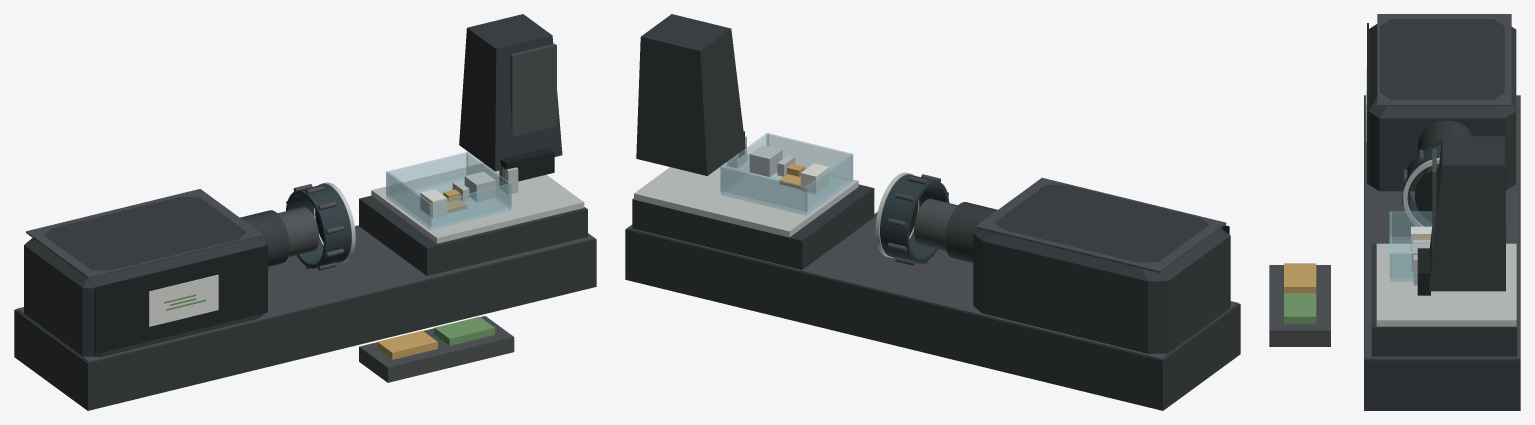
The model's file is microtester-g2.glb.
3 views of the same model, side by side, from view 1: azimuth 30°, elevation 25°; view 2: azimuth 150°, elevation 25°; view 3: azimuth 270°, elevation 25° (orthographic). The views are drawn at different scales.
Parts seen in each view (by area): view 1: Long_nominal_black_bed, Optics_left_housing, Optics_front_visible_panel, Raised_right_protective_column, Bed_top_parting_strip, Fixture_right_base_silver, Fixture_right_island, Virtual_key_pad, Upper_tower_soft_front_edge, Camera_focus_collar_silhouette, Optics_top_panel, Original_pale_exterior_label (+12 smaller); view 2: Long_nominal_black_bed, Optics_left_housing, Raised_right_protective_column, Fixture_right_base_silver, Bed_top_parting_strip, Fixture_right_island, Camera_focus_collar_silhouette, Optics_top_panel, Dry_guard_floor, Dry_empty_guard_edge_-36, Dry_empty_guard_edge_46, Camera_dormant_nose (+5 smaller); view 3: Optics_left_housing, Raised_right_protective_column, Long_nominal_black_bed, Fixture_right_base_silver, Bed_top_parting_strip, Fixture_right_island, Virtual_key_pad, Optics_top_panel, Run_virtual_trace_key, Preview_toggle_key, Camera_dormant_nose, Dry_guard_floor (+9 smaller).
Boxes of the visible parts, x1,y1,x2,y2 form: Long_nominal_black_bed: (14, 233, 596, 410); Optics_left_housing: (24, 197, 267, 356); Optics_front_visible_panel: (94, 245, 267, 354); Raised_right_protective_column: (459, 14, 562, 171); Bed_top_parting_strip: (16, 225, 594, 362); Fixture_right_base_silver: (371, 163, 584, 243); Fixture_right_island: (359, 196, 587, 275); Virtual_key_pad: (359, 316, 514, 382); Upper_tower_soft_front_edge: (510, 43, 556, 136); Camera_focus_collar_silhouette: (286, 184, 351, 268); Optics_top_panel: (26, 189, 263, 278); Original_pale_exterior_label: (149, 274, 218, 326); Long_nominal_black_bed: (625, 224, 1240, 410); Optics_left_housing: (973, 184, 1230, 353); Raised_right_protective_column: (636, 14, 745, 175); Fixture_right_base_silver: (634, 153, 858, 237); Bed_top_parting_strip: (627, 214, 1238, 359); Fixture_right_island: (632, 184, 874, 269); Camera_focus_collar_silhouette: (880, 174, 949, 263); Optics_top_panel: (975, 177, 1226, 272); Dry_guard_floor: (721, 168, 852, 215); Dry_empty_guard_edge_-36: (720, 166, 807, 212); Dry_empty_guard_edge_46: (766, 133, 852, 179); Camera_dormant_nose: (945, 202, 997, 262); Optics_left_housing: (1368, 19, 1516, 191); Raised_right_protective_column: (1429, 136, 1505, 291); Long_nominal_black_bed: (1364, 95, 1520, 410); Fixture_right_base_silver: (1376, 243, 1516, 326); Bed_top_parting_strip: (1365, 95, 1519, 359); Fixture_right_island: (1371, 243, 1517, 356); Virtual_key_pad: (1269, 265, 1330, 346); Optics_top_panel: (1377, 14, 1511, 106); Run_virtual_trace_key: (1284, 293, 1316, 324); Preview_toggle_key: (1284, 263, 1316, 292); Camera_dormant_nose: (1417, 120, 1472, 178); Dry_guard_floor: (1390, 237, 1413, 281).
Bounding box in the file's own units: 0.56 × 0.24 × 0.2245.
